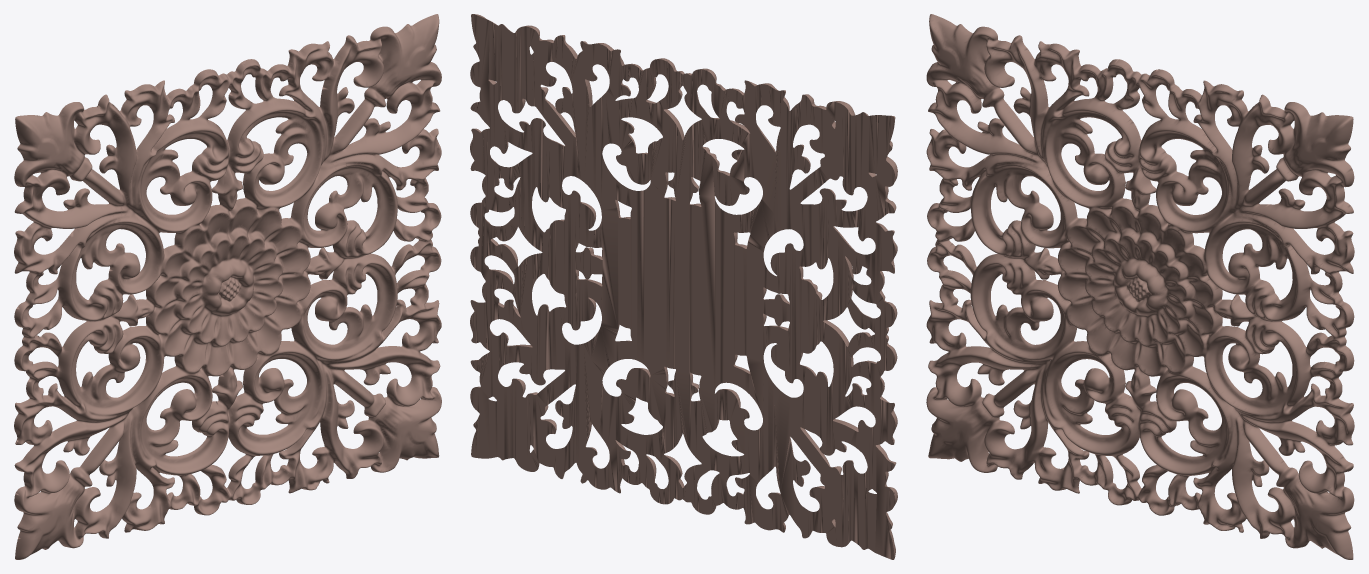
The model's file is centerpiece.glb.
The picture shows the model from 3 angles, left to right: view 1: azimuth 30°, elevation 25°; view 2: azimuth 150°, elevation 25°; view 3: azimuth 330°, elevation 25°; orthographic projection.
Visible parts, largest first — view 1: Plane_Material.002_0; view 2: Plane_Material.002_0; view 3: Plane_Material.002_0.
Boxes of the visible parts, x1,y1,x2,y2 form: Plane_Material.002_0: (14, 14, 441, 559); Plane_Material.002_0: (470, 14, 897, 559); Plane_Material.002_0: (926, 14, 1354, 559).
Size of the model in its own units: 1.99 by 1.99 by 0.0573.
